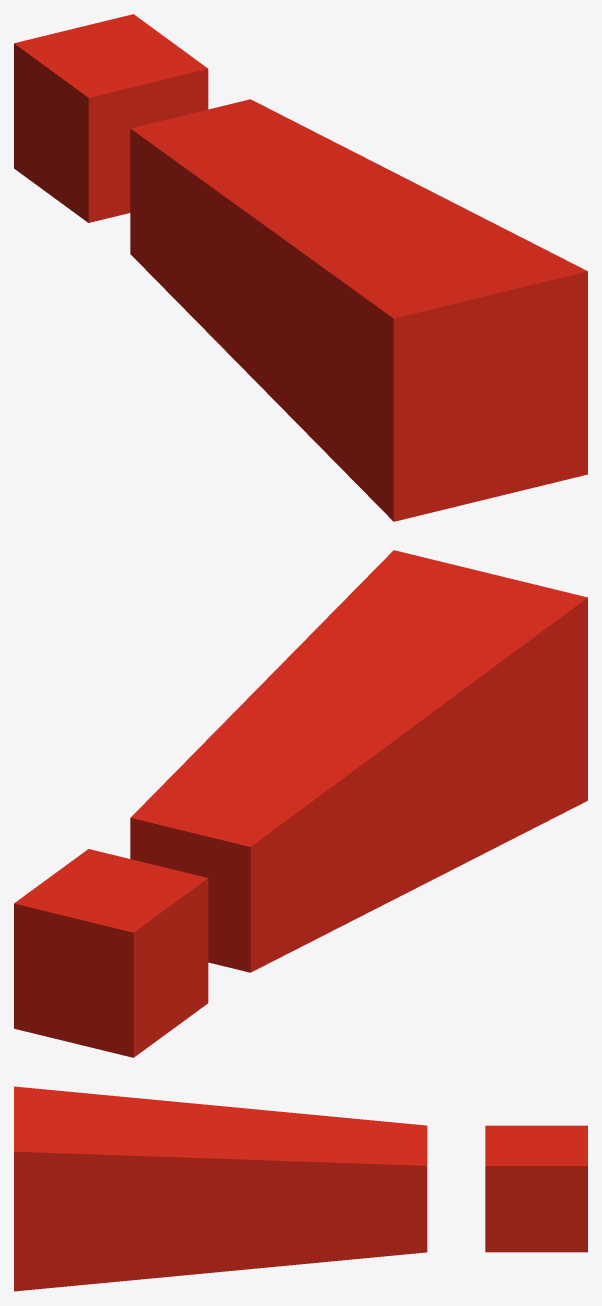
Rendered from rufezeichen.glb.
3 renders of one model, top to bottom at view 1: azimuth 30°, elevation 25°; view 2: azimuth 150°, elevation 25°; view 3: azimuth 270°, elevation 25°, orthographic. The views are drawn at different scales.
Parts seen in each view (by area): view 1: Cube; view 2: Cube; view 3: Cube.
Part boxes in pixels (<box>): Cube: <box>14,14,587,521</box>; Cube: <box>14,550,587,1057</box>; Cube: <box>14,1086,587,1291</box>.
Bounding box in the file's own units: 1.08 × 1.08 × 4.04.
